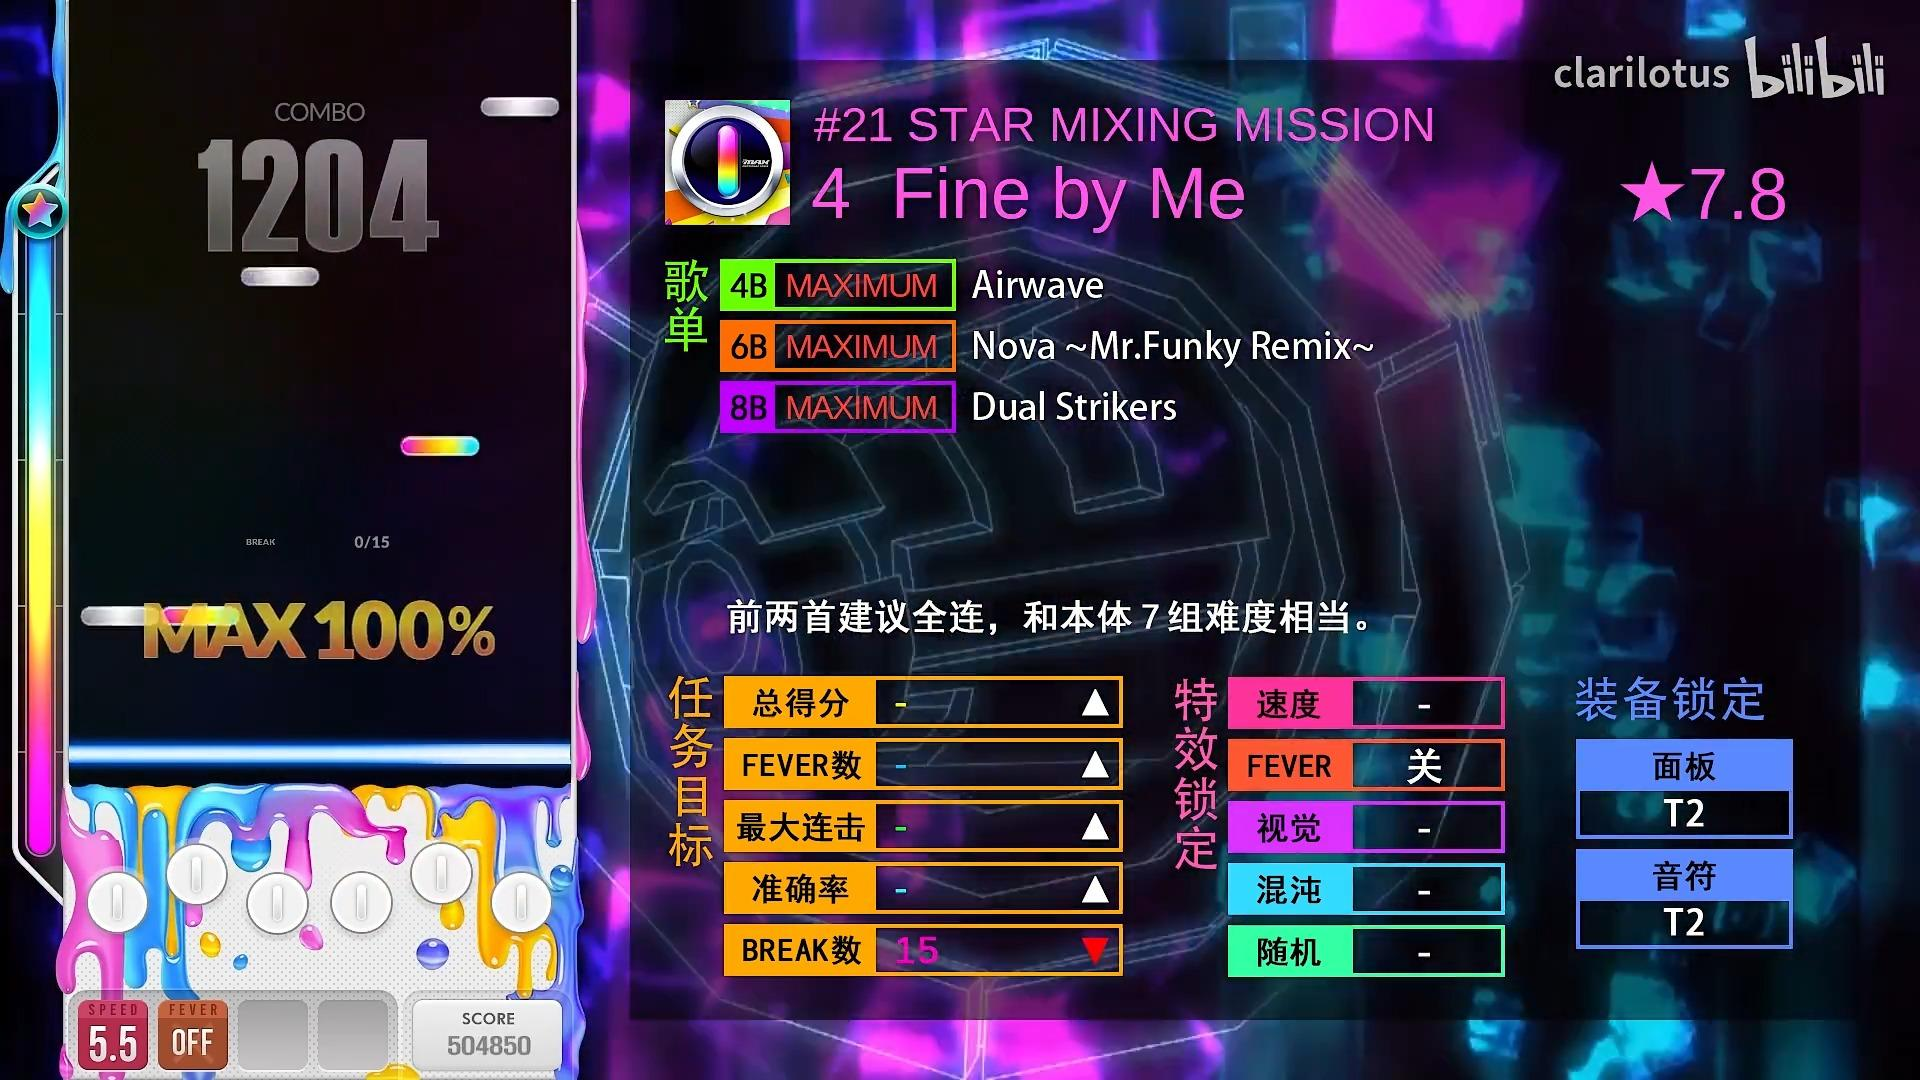note: (79, 605, 161, 628), (161, 605, 240, 628), (480, 96, 559, 117), (401, 436, 480, 458), (241, 266, 320, 286)
